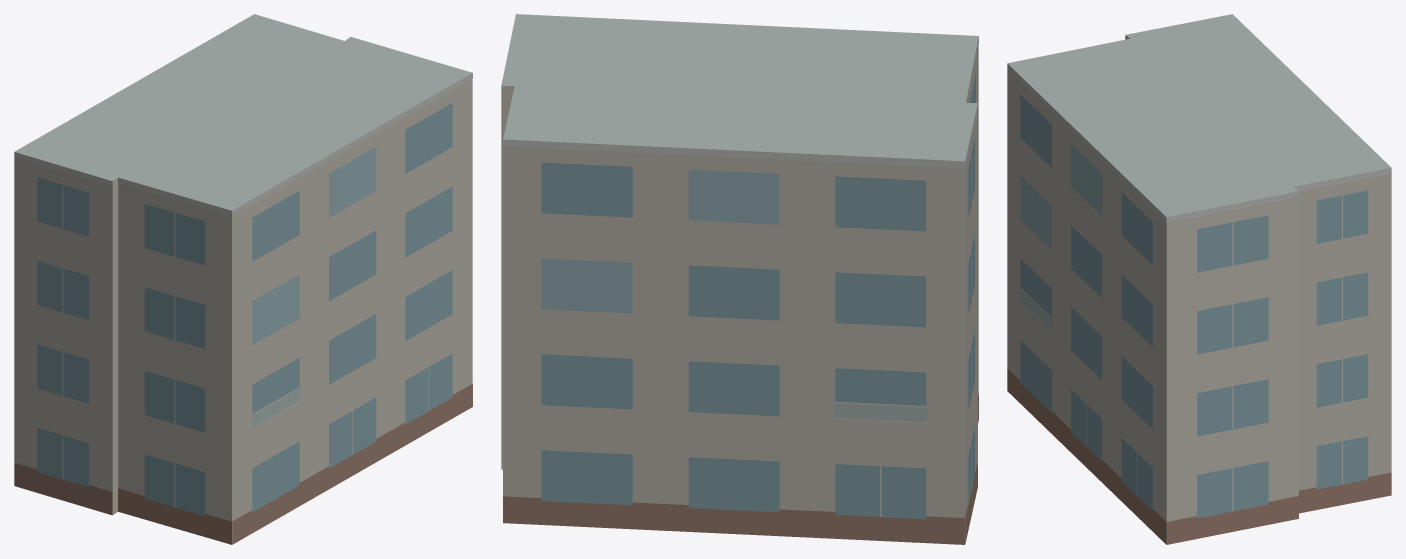
Rendered from survey-upis-32822733.glb.
3 renders of one model, left to right at view 1: azimuth 30°, elevation 25°; view 2: azimuth 150°, elevation 25°; view 3: azimuth 270°, elevation 25°, orthographic. The views are drawn at different scales.
Visible parts, largest first — view 1: survey-upis-32822733.tmp; view 2: survey-upis-32822733.tmp; view 3: survey-upis-32822733.tmp.
Boxes of the visible parts, bbox=[...] form: survey-upis-32822733.tmp: bbox=[14, 14, 472, 544]; survey-upis-32822733.tmp: bbox=[501, 14, 978, 544]; survey-upis-32822733.tmp: bbox=[1007, 14, 1391, 544].
Size of the model in its own units: 18.07 by 13.57 by 14.44.
